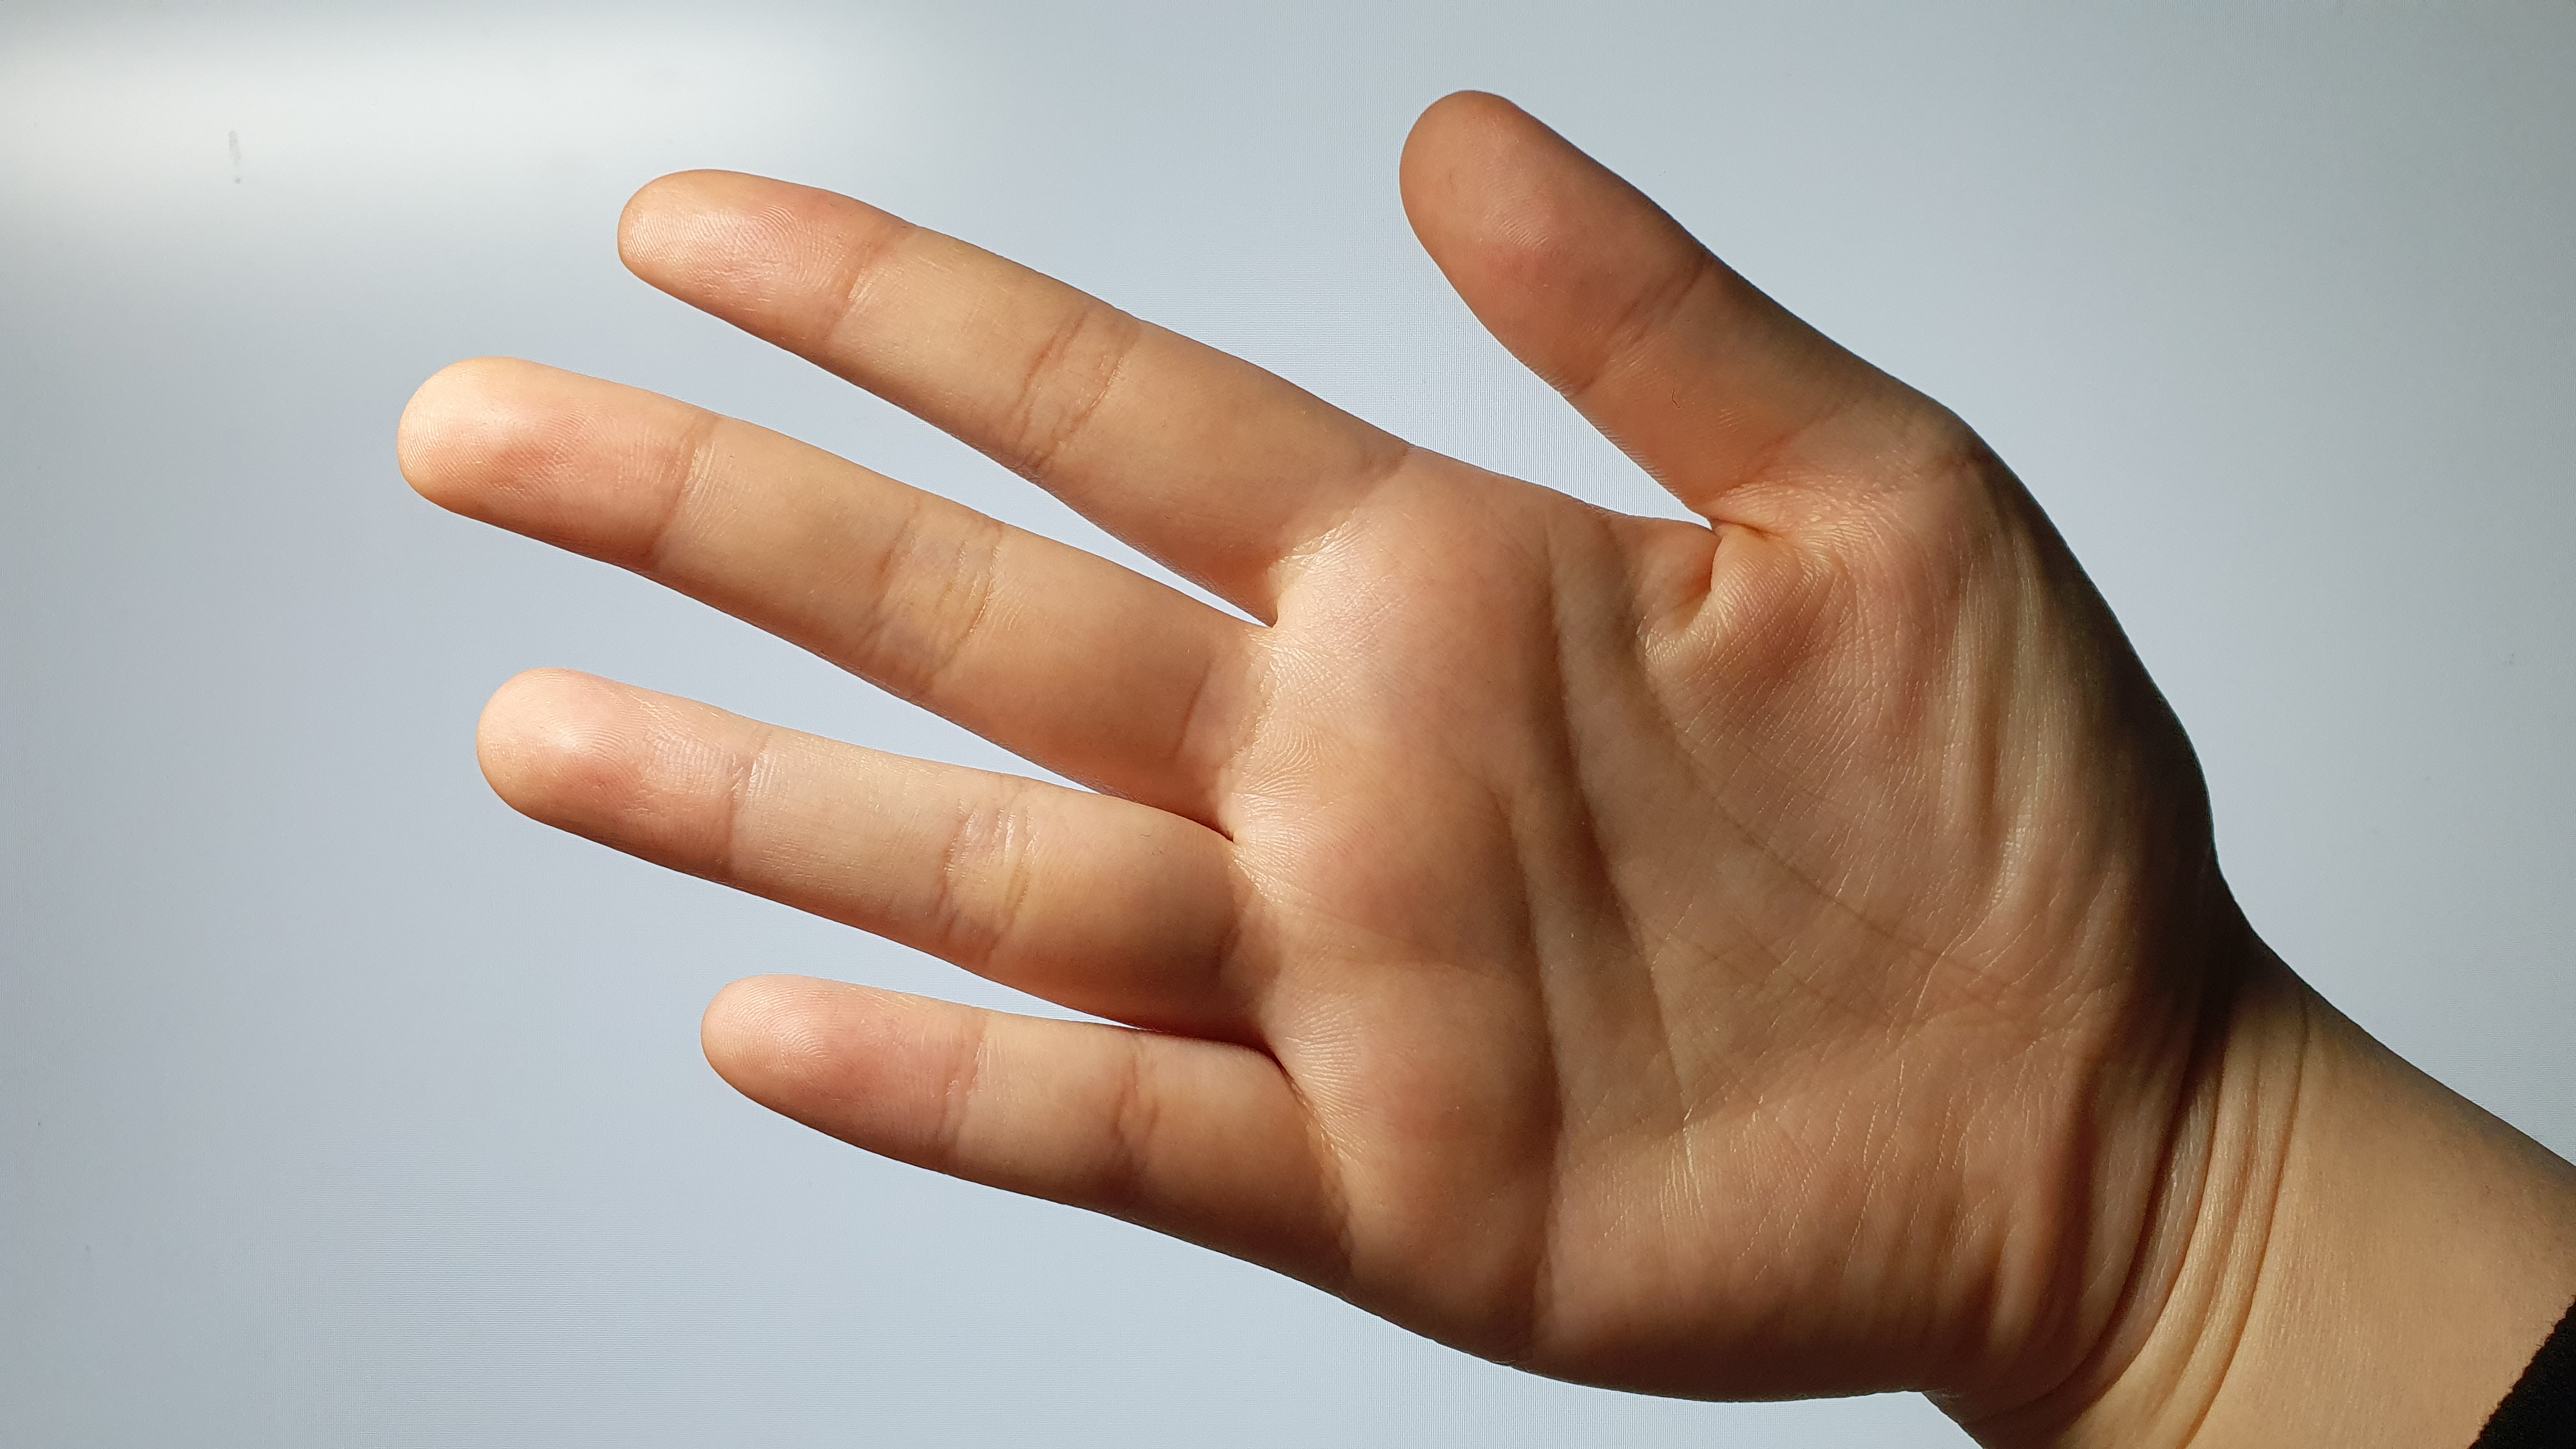hand: (379, 83, 2151, 1419)
index finger: (602, 163, 1345, 612)
middle finger: (377, 352, 1249, 823)
palm: (1231, 455, 2148, 1405)
pinky: (685, 973, 1336, 1279)
ring finger: (471, 665, 1274, 1040)
thumb: (1392, 83, 1888, 564)
